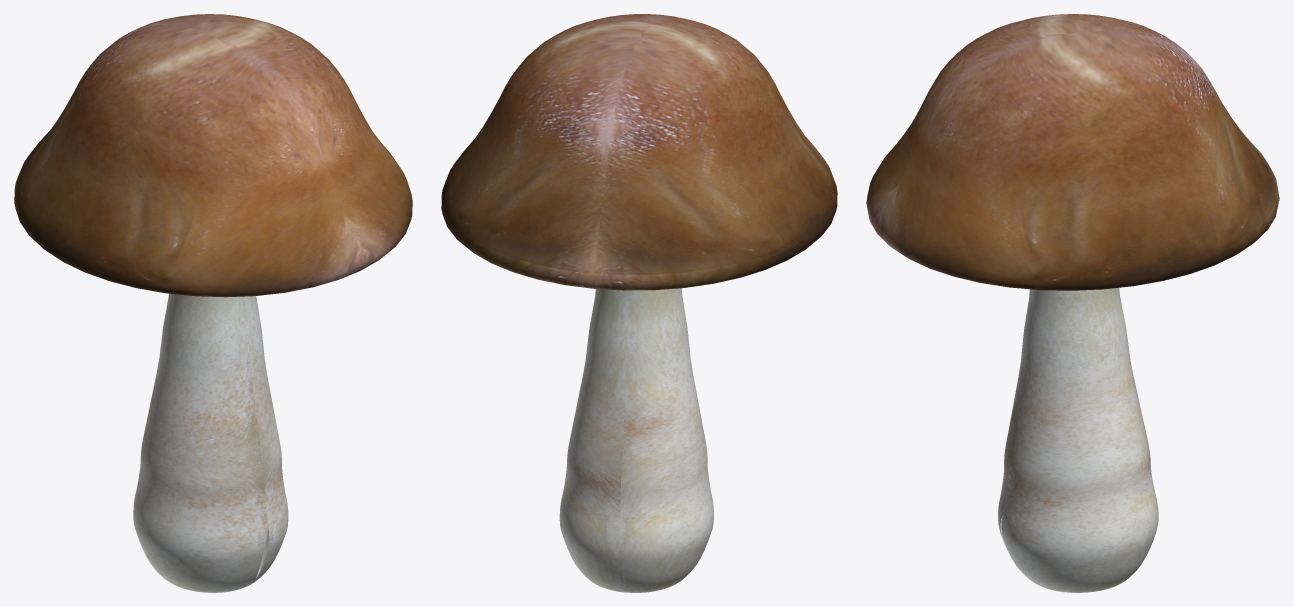
Rendered from Champi.fbx.
The picture shows the model from 3 angles, left to right: view 1: azimuth 30°, elevation 25°; view 2: azimuth 150°, elevation 25°; view 3: azimuth 270°, elevation 25°; orthographic projection.
Parts seen in each view (by area): view 1: Mushroom_model; view 2: Mushroom_model; view 3: Mushroom_model.
Part boxes in pixels (x1,y1,x2,y2): Mushroom_model: [14, 14, 412, 592]; Mushroom_model: [441, 14, 837, 592]; Mushroom_model: [866, 14, 1279, 592].
Bounding box in the file's own units: 0.1285 × 0.1345 × 0.1941.
1 material, 1 textured.
